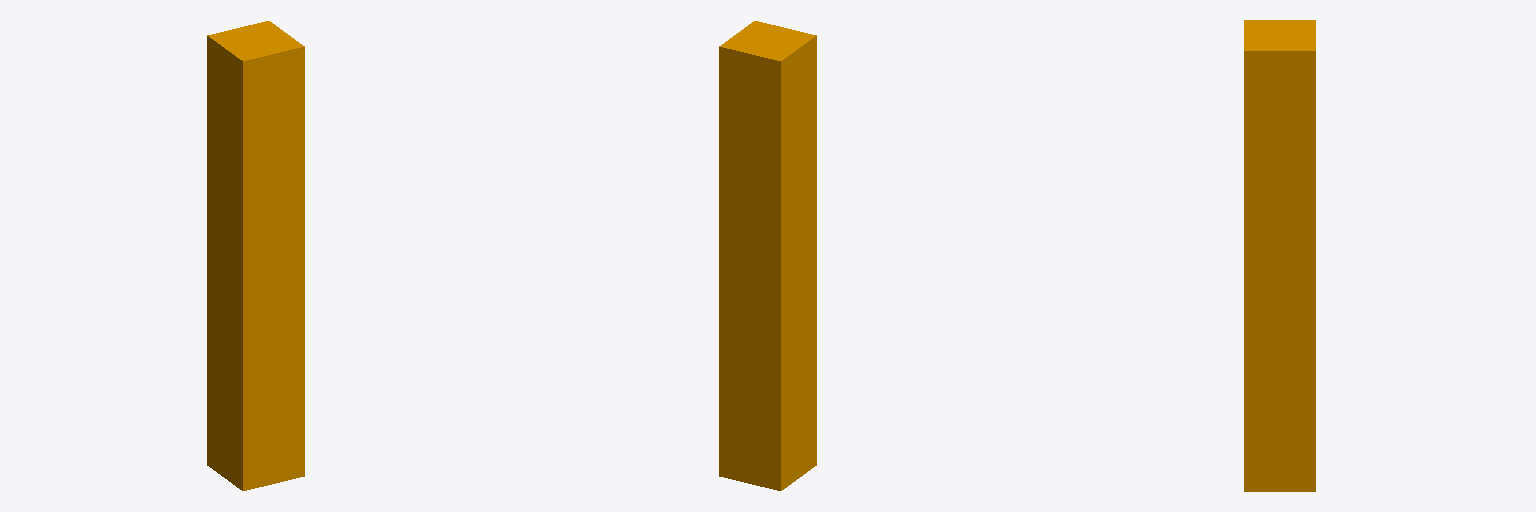
robot.urdf — box:
<?xml version='1.0' encoding='UTF-8'?>
<robot name="box">
  <link name="base_link">
    <inertial>
      <origin xyz="0.0 0.0 0.0" rpy="0.0 -0.0 0.0"/>
      <mass value="1.0"/>
      <inertia ixx="1.0" ixy="0.0" ixz="0.0" iyy="1.0" iyz="0.0" izz="1.0"/>
    </inertial>
    <visual name="base_link_visual">
      <geometry>
        <box size="0.15 0.15 1.0"/>
      </geometry>
      <origin xyz="0 0 0" rpy="0 0 0"/>
    </visual>
    <collision name="base_link_collision">
      <geometry>
        <box size="0.15 0.15 1.0"/>
      </geometry>
      <origin xyz="0 0 0" rpy="0 0 0"/>
    </collision>
  </link>
</robot>

--- Facts derived from the render (not from the file) ---
3 views of the same robot in one strip: view 1: azimuth 30°, elevation 25°; view 2: azimuth 150°, elevation 25°; view 3: azimuth 270°, elevation 25° (orthographic).
Robot: box — 1 links, 0 joints (none); root link base_link; default pose: all joints at 0.
Visible links, largest first — view 1: base_link; view 2: base_link; view 3: base_link.
Boxes of the visible links, x1=… form: base_link: x1=207, y1=21, x2=304, y2=490; base_link: x1=719, y1=21, x2=816, y2=490; base_link: x1=1244, y1=20, x2=1315, y2=491.
Size in the robot's own frame: 0.15 by 0.15 by 1 metres.
Geometry: primitives only (box / cylinder / sphere), no mesh files.